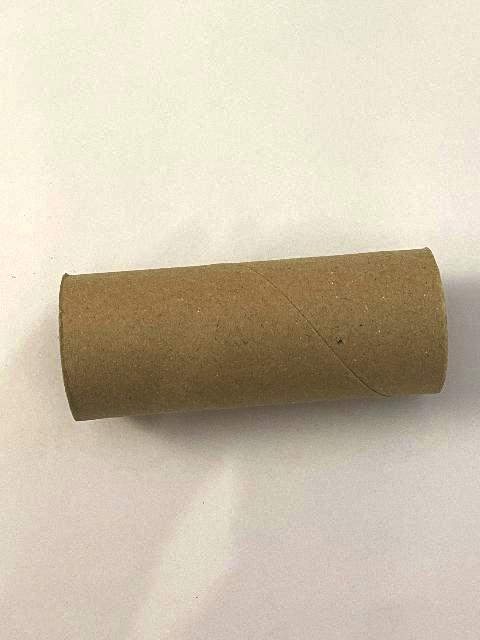tissueroll: (57, 244, 451, 424)
